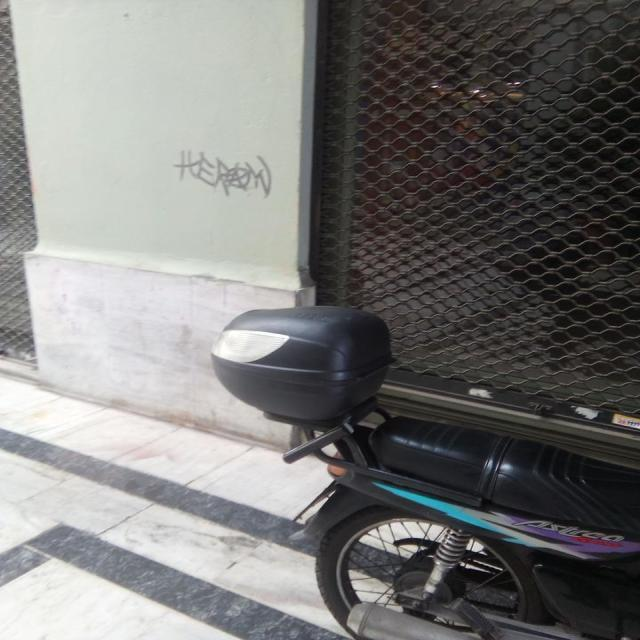nonspitting: (178, 150, 274, 199)
